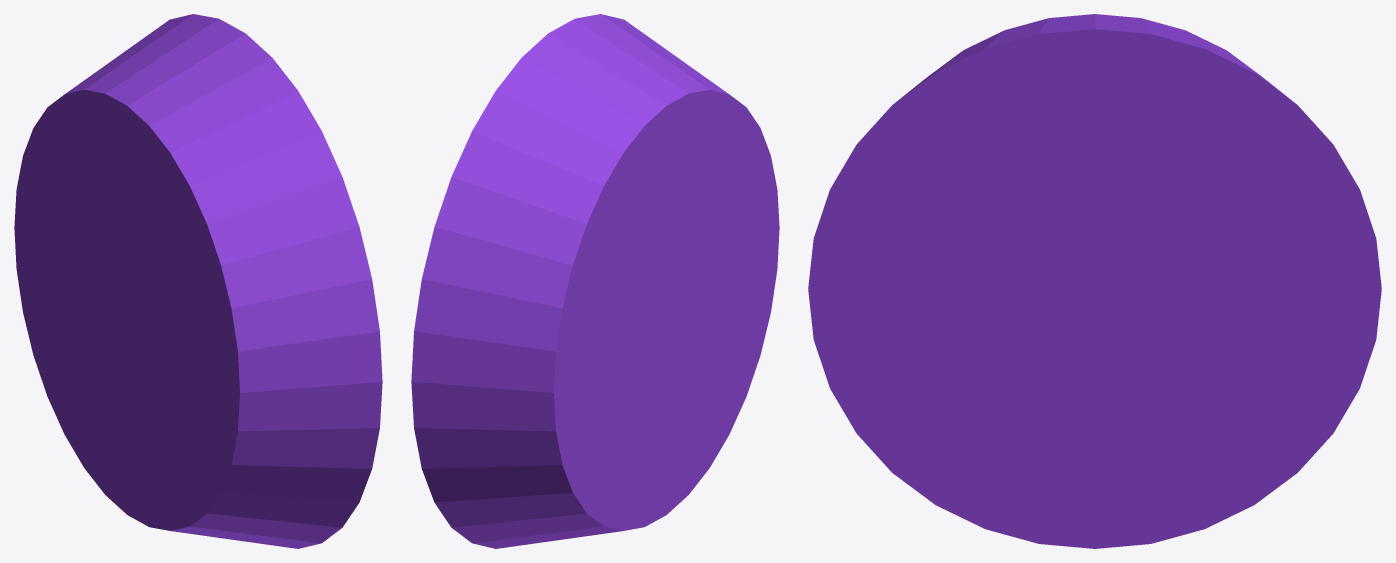
Rendered from purple_button.glb.
3 views of the same model, side by side, from view 1: azimuth 30°, elevation 25°; view 2: azimuth 150°, elevation 25°; view 3: azimuth 270°, elevation 25° (orthographic). The views are drawn at different scales.
Parts seen in each view (by area): view 1: Cylinder.004; view 2: Cylinder.004; view 3: Cylinder.004.
Boxes of the visible parts, bbox=[...] form: Cylinder.004: bbox=[14, 14, 382, 548]; Cylinder.004: bbox=[411, 14, 779, 548]; Cylinder.004: bbox=[808, 14, 1381, 548].
Size of the model in its own units: 0.125 by 0.5 by 0.5.
